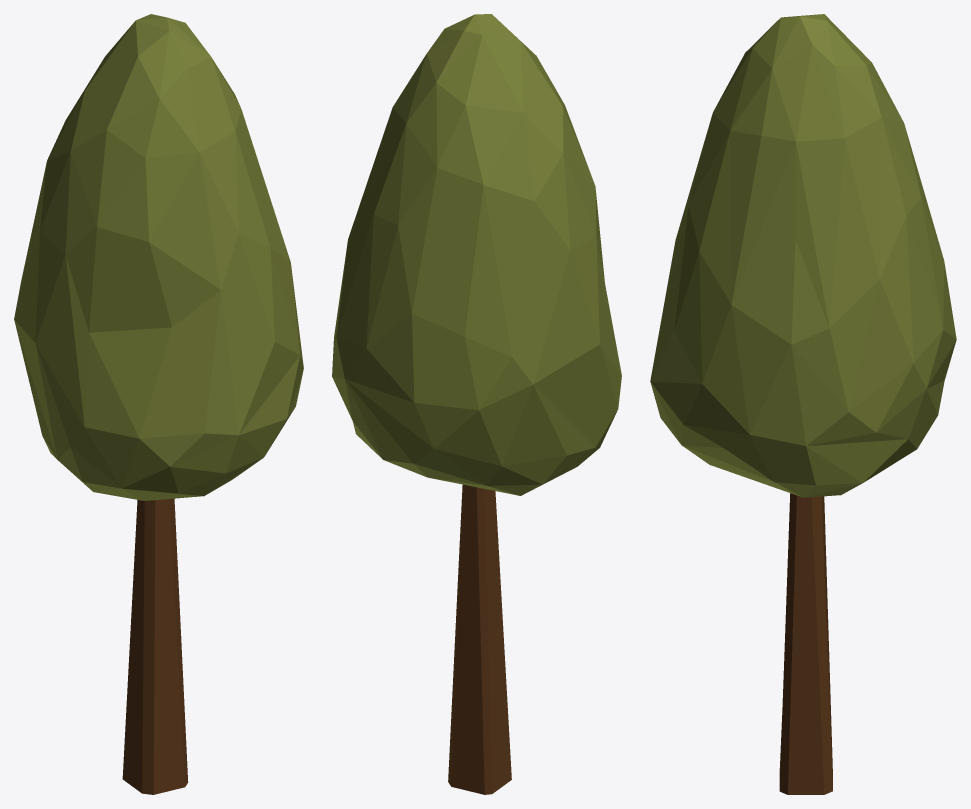
Rendered from tree1.fbx.
3 renders of one model, left to right at view 1: azimuth 30°, elevation 25°; view 2: azimuth 150°, elevation 25°; view 3: azimuth 270°, elevation 25°, orthographic.
Parts seen in each view (by area): view 1: tree1; view 2: tree1; view 3: tree1.
Part boxes in pixels (x1,y1,x2,y2): tree1: (14,14,303,794); tree1: (332,14,621,794); tree1: (650,14,956,794).
Bounding box in the file's own units: 286 × 838 × 302.
